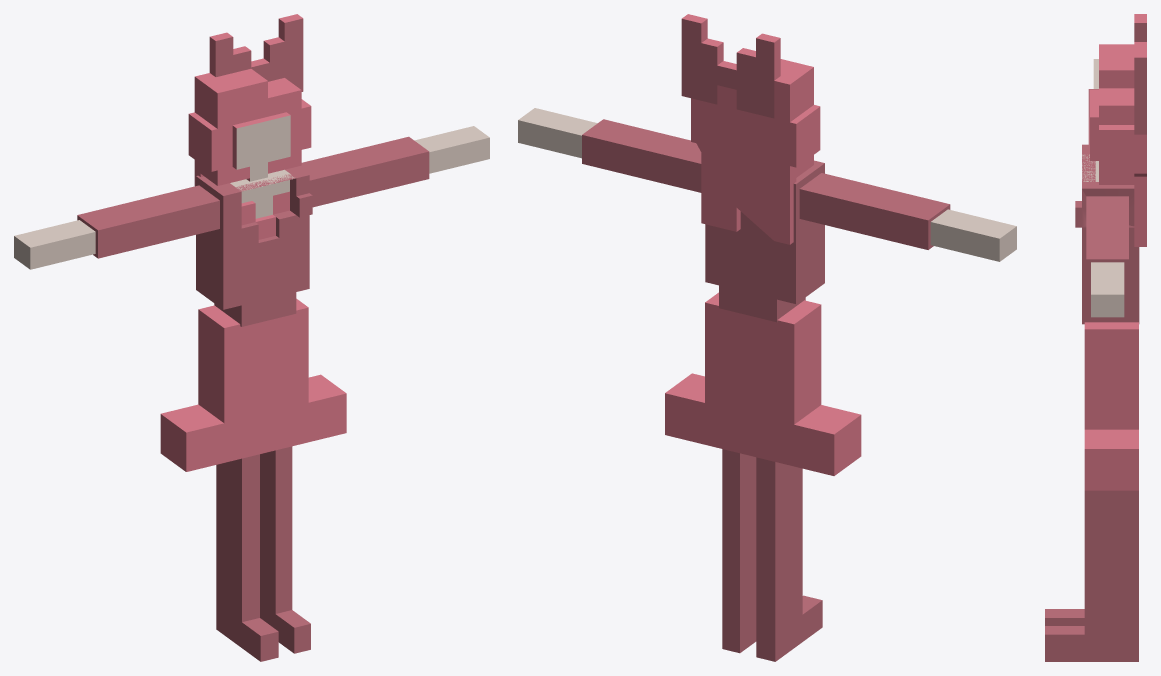
The model's file is girl4.fbx.
The picture shows the model from 3 angles, left to right: view 1: azimuth 30°, elevation 25°; view 2: azimuth 150°, elevation 25°; view 3: azimuth 270°, elevation 25°; orthographic projection. The views are drawn at different scales.
Parts seen in each view (by area): view 1: pasted__polySurface4, pasted__pasted__pCube7, pasted__polySurface5, pasted__polySurface2, pasted__polySurface6, pasted__polySurface3; view 2: pasted__polySurface4, pasted__pasted__pCube7, pasted__polySurface5, pasted__polySurface2, pasted__polySurface6, pasted__polySurface3; view 3: pasted__polySurface4, pasted__polySurface3, pasted__pasted__pCube7, pasted__polySurface6, pasted__polySurface2, pasted__polySurface5.
Boxes of the visible parts, <box> form: pasted__polySurface4: <box>160,166,346,471</box>; pasted__pasted__pCube7: <box>188,14,311,186</box>; pasted__polySurface5: <box>14,185,219,269</box>; pasted__polySurface2: <box>216,454,278,661</box>; pasted__polySurface6: <box>298,126,489,207</box>; pasted__polySurface3: <box>260,446,310,653</box>; pasted__polySurface4: <box>665,160,861,475</box>; pasted__pasted__pCube7: <box>681,14,820,244</box>; pasted__polySurface5: <box>799,173,1016,261</box>; pasted__polySurface2: <box>756,457,822,661</box>; pasted__polySurface6: <box>518,108,701,192</box>; pasted__polySurface3: <box>722,449,756,653</box>; pasted__polySurface4: <box>1075,144,1139,490</box>; pasted__polySurface3: <box>1045,490,1138,661</box>; pasted__pasted__pCube7: <box>1090,14,1146,246</box>; pasted__polySurface6: <box>1086,196,1128,317</box>; pasted__polySurface2: <box>1045,609,1084,625</box>; pasted__polySurface5: <box>1088,59,1098,144</box>.
Bounding box in the file's own units: 2.98 × 3.68 × 0.5456.
